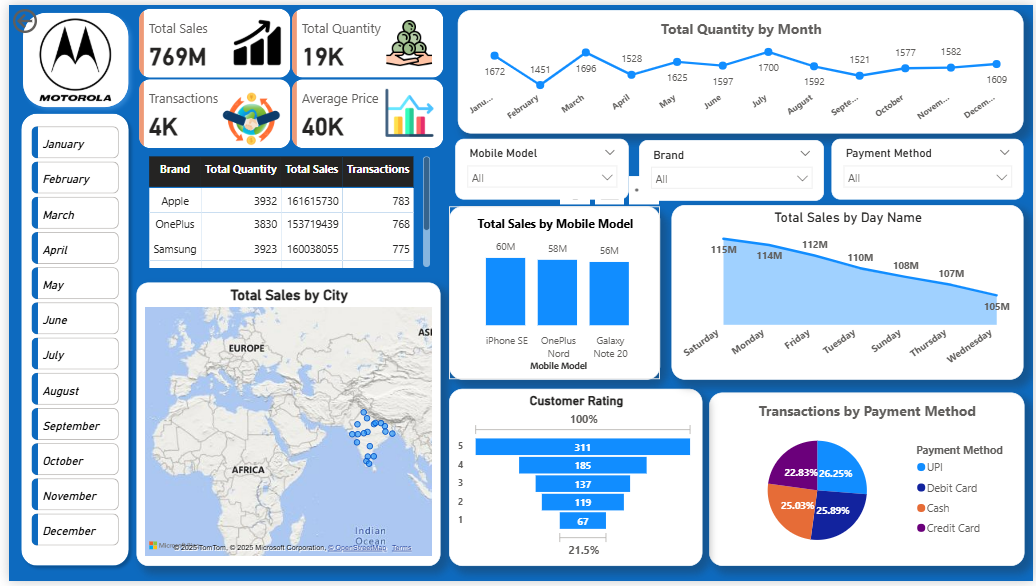

The page's visual inventory and layout, read from the dashboard file:
{"tool":"powerbi","page":{"name":"Page 1","canvas":[1280,720],"ordinal":0},"visuals":[{"type":"shape","box":[7.5,0,151.2,137.5],"z":0},{"type":"image","box":[16.2,11.2,135,115],"z":1000},{"type":"shape","box":[5.5,126.2,152.3,583.2],"z":2000},{"type":"advancedSlicerVisual","fields":{"Values":["Sales_Data.Date.Variation.Date Hierarchy.Month"]},"box":[23.3,146.8,119.4,543.4],"z":3000},{"type":"cardVisual","fields":{"Data":["Sales_Data.Total Sales","Sales_Data.Total Quantity","Sales_Data.Transactions","Sales_Data.Average Price"]},"box":[158.6,0,391.4,184.3],"z":4000},{"type":"map","title":"Total Sales by City","fields":{"Category":["Sales_Data.City"]},"box":[160,347.1,380,354.3],"z":5000},{"type":"lineChart","fields":{"Category":["Sales_Data.Date.Variation.Date Hierarchy.Month","Sales_Data.Date.Variation.Date Hierarchy.Day"],"Y":["Sales_Data.Total Quantity"]},"box":[561.4,5.7,707.1,154.3],"z":6000},{"type":"clusteredColumnChart","fields":{"Category":["Sales_Data.Mobile Model"],"Y":["Sales_Data.Total Sales"]},"box":[550,251.4,264.3,217.1],"z":7000},{"type":"pieChart","fields":{"Category":["Sales_Data.Payment Method"],"Y":["Sales_Data.Transactions"]},"box":[874.3,484.3,394.3,217.1],"z":8000},{"type":"funnel","title":"Customer Rating","fields":{"Category":["Sales_Data.Customer Ratings"],"Y":["CountNonNull(Sales_Data.Customer Ratings)"]},"box":[550,480,317.1,221.4],"z":9000},{"type":"areaChart","fields":{"Category":["Sales_Data.Day Name"],"Y":["Sales_Data.Total Sales"]},"box":[828.6,250,440,218.6],"z":10000},{"type":"tableEx","fields":{"Values":["Sales_Data.Brand","Sales_Data.Total Quantity","Sales_Data.Total Sales","Sales_Data.Transactions"]},"box":[168.6,184.3,362.9,148.6],"z":11000},{"type":"actionButton","box":[0,0,100,40],"z":12000},{"type":"slicer","fields":{"Values":["Sales_Data.Mobile Model"]},"box":[558.6,167.1,217.1,75.7],"z":13000},{"type":"slicer","fields":{"Values":["Sales_Data.Payment Method"]},"box":[1028.6,167.1,240,75.7],"z":14000},{"type":"slicer","fields":{"Values":["Sales_Data.Brand"]},"box":[787.1,168.6,231.4,75.7],"z":15000}]}

Visuals, with their boxes in screenshot pixels (x1, y1, x2, y2), scaled from the page's 1280x720 canvas onto the 1036x586 screenshot:
shape: BBox(6, 0, 128, 112)
image: BBox(13, 9, 122, 103)
shape: BBox(4, 103, 128, 577)
advancedSlicerVisual - Sales_Data.Date.Variation.Date Hierarchy.Month: BBox(19, 119, 115, 562)
cardVisual - Sales_Data.Total Sales x Sales_Data.Total Quantity: BBox(128, 0, 445, 150)
"Total Sales by City" map: BBox(130, 283, 437, 571)
lineChart - Sales_Data.Date.Variation.Date Hierarchy.Month x Sales_Data.Date.Variation.Date Hierarchy.Day: BBox(454, 5, 1027, 130)
clusteredColumnChart - Sales_Data.Mobile Model x Sales_Data.Total Sales: BBox(445, 205, 659, 381)
pieChart - Sales_Data.Payment Method x Sales_Data.Transactions: BBox(708, 394, 1027, 571)
"Customer Rating" funnel: BBox(445, 391, 702, 571)
areaChart - Sales_Data.Day Name x Sales_Data.Total Sales: BBox(671, 203, 1027, 381)
tableEx - Sales_Data.Brand x Sales_Data.Total Quantity: BBox(136, 150, 430, 271)
actionButton: BBox(0, 0, 81, 33)
slicer - Sales_Data.Mobile Model: BBox(452, 136, 628, 198)
slicer - Sales_Data.Payment Method: BBox(833, 136, 1027, 198)
slicer - Sales_Data.Brand: BBox(637, 137, 824, 199)
